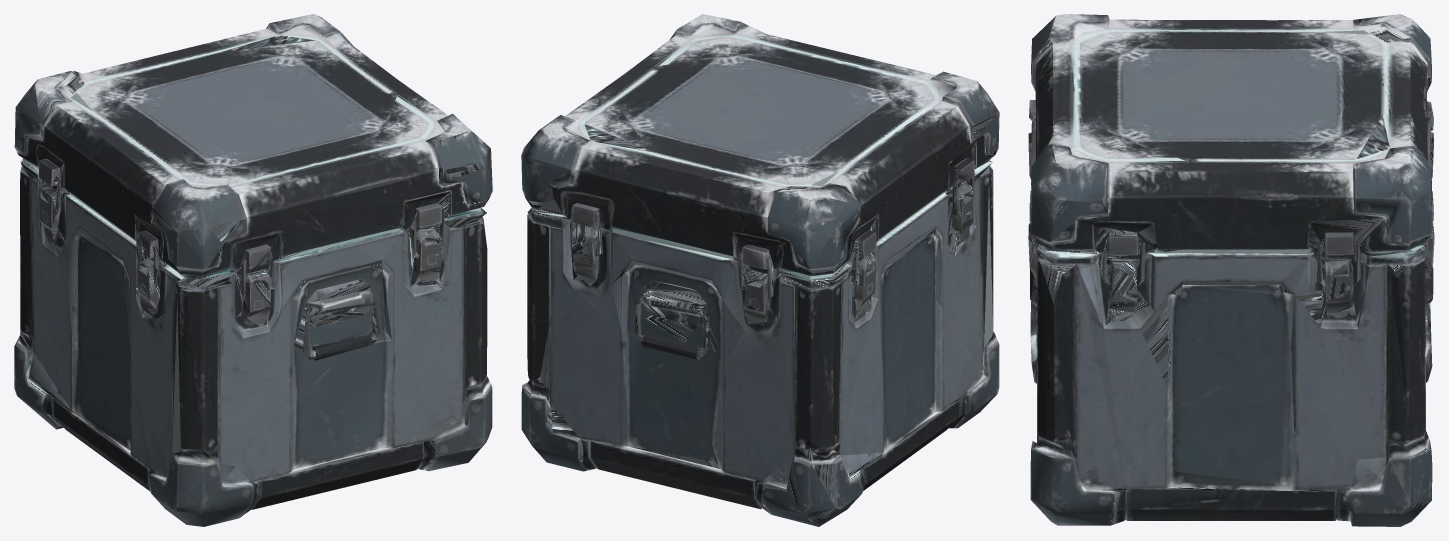
Rendered from prop_crate-high.glb.
The picture shows the model from 3 angles, left to right: view 1: azimuth 30°, elevation 25°; view 2: azimuth 150°, elevation 25°; view 3: azimuth 270°, elevation 25°; orthographic projection. The views are drawn at different scales.
Parts seen in each view (by area): view 1: Mesh_0; view 2: Mesh_0; view 3: Mesh_0.
Boxes of the visible parts, x1,y1,x2,y2 form: Mesh_0: [14, 14, 492, 526]; Mesh_0: [521, 14, 999, 526]; Mesh_0: [1028, 14, 1434, 526].
Bounding box in the file's own units: 1.9 × 1.87 × 1.9.
Materials: 1 (1 with a texture image).
